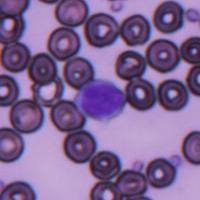L: (74, 78, 125, 121)
